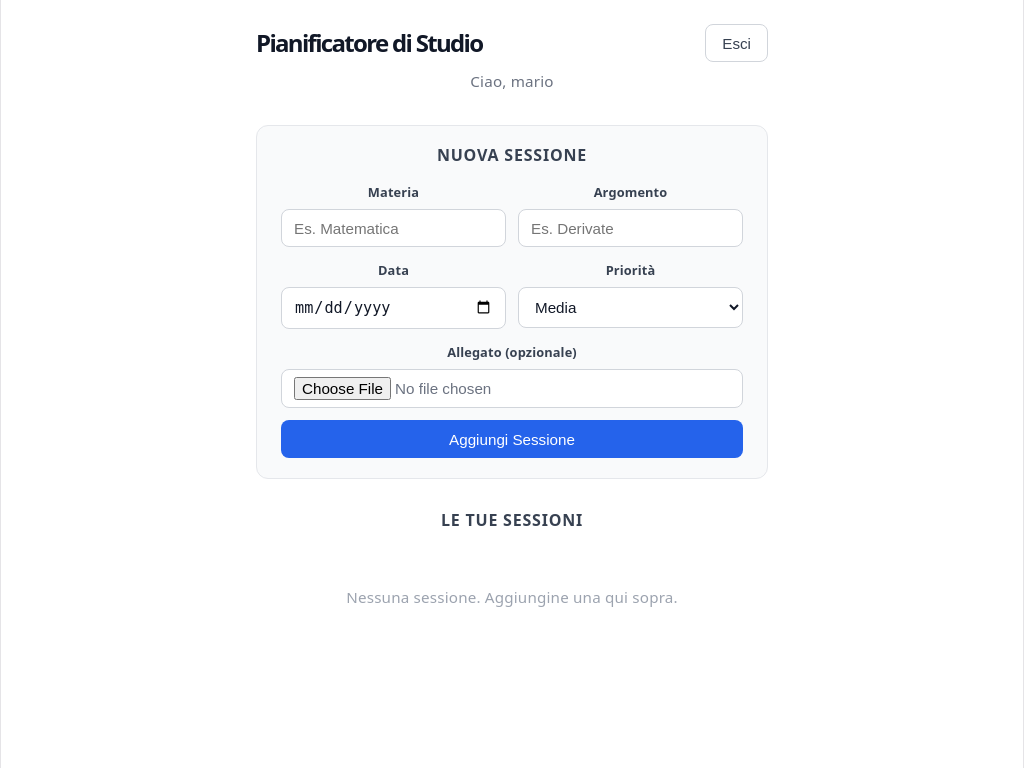
Scenario: planner (logged-in user) › logs out and returns to the auth screen, clearing storage
Expected: the heading "Pianificatore di Studio" is shown, [256,32,482,55]
Click the button "Esci".
click(737, 43)  # box [705,24,768,62]
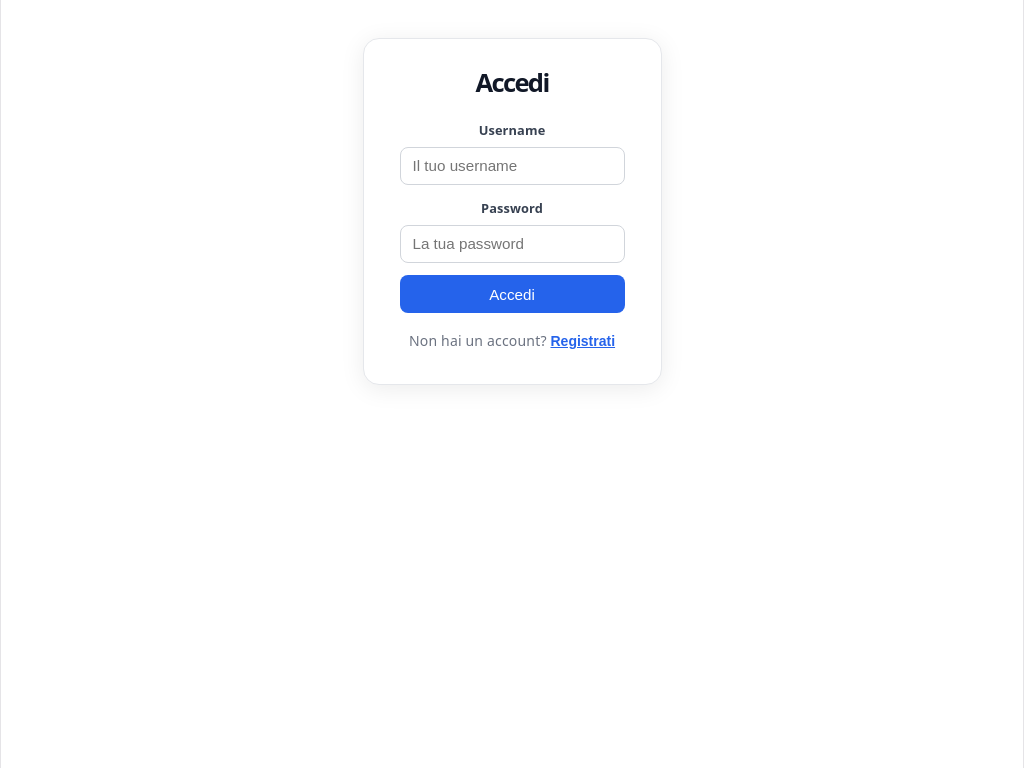
Result: the heading "Accedi" is shown at [476,65,548,100]
